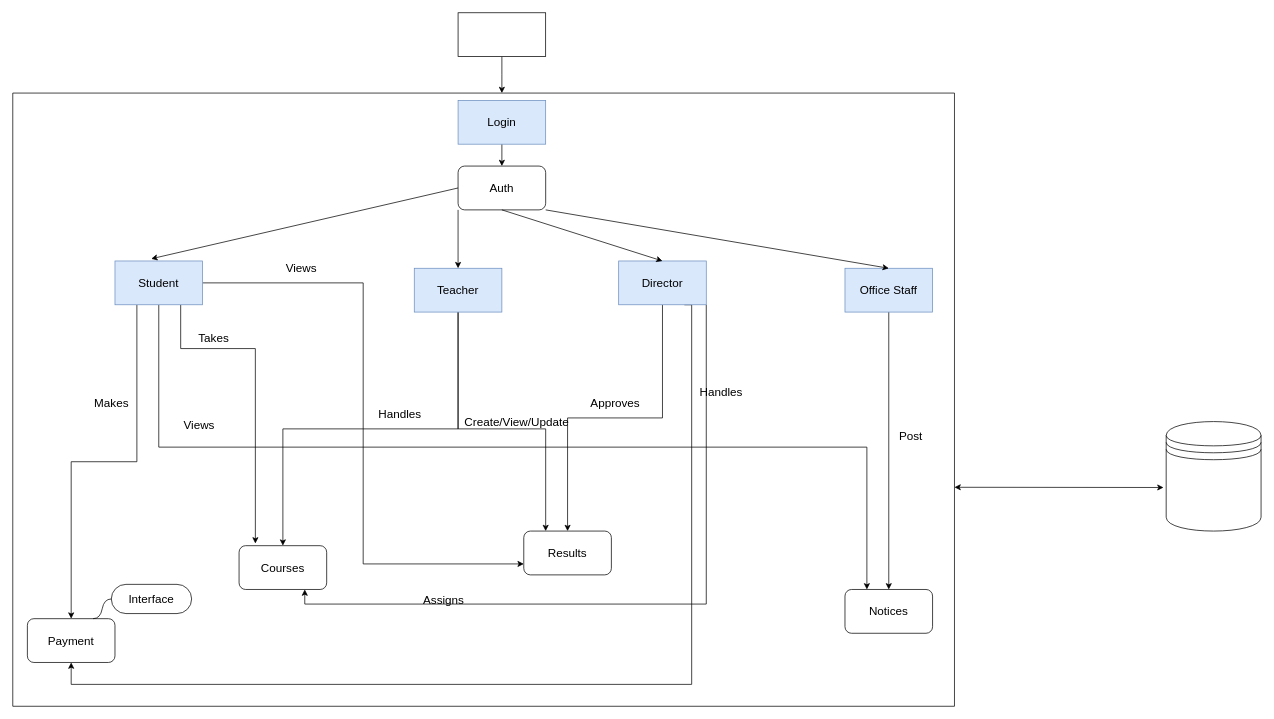
The diagram is 1274 pixels wide and 719 high, and some of its shapes have lost their labels. The centre of each missing label's shape, as x and y in pixels:
Database: (1213,476)
User Interface: (501,34)
